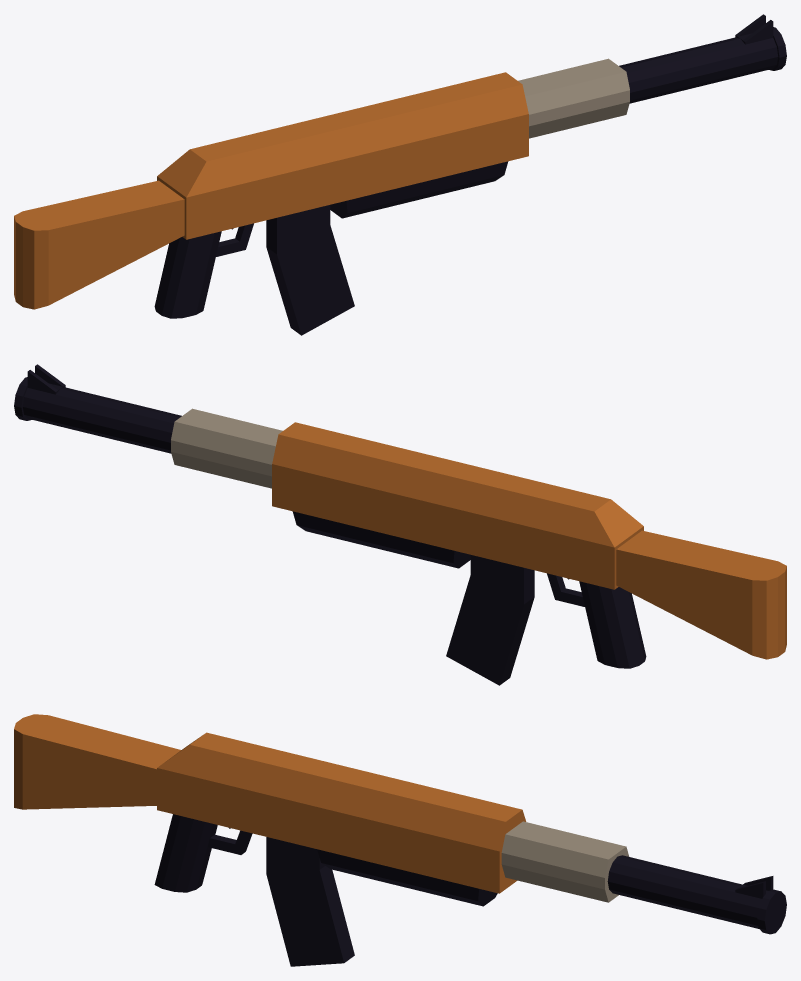
File: Gun.glb
The picture shows the model from 3 angles, top to bottom: view 1: azimuth 30°, elevation 25°; view 2: azimuth 150°, elevation 25°; view 3: azimuth 330°, elevation 25°; orthographic projection.
Visible parts, largest first — view 1: Rifle; view 2: Rifle; view 3: Rifle.
Boxes of the visible parts, x1=… form: Rifle: x1=14, y1=14, x2=786, y2=335; Rifle: x1=14, y1=364, x2=786, y2=685; Rifle: x1=14, y1=714, x2=786, y2=966.
Size of the model in its own units: 2.93 by 0.7406 by 0.1961.
